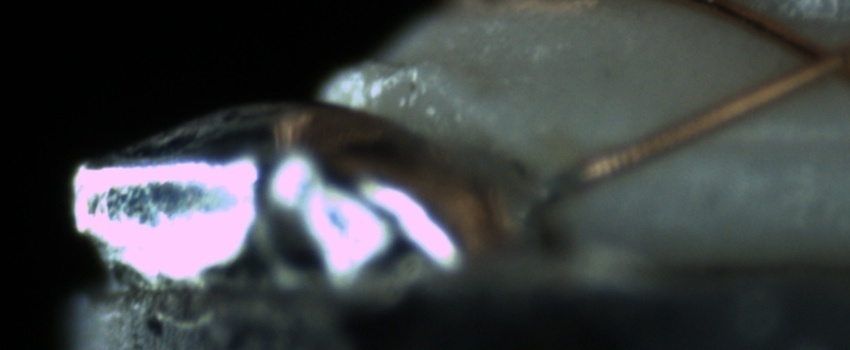CL: (771, 20, 849, 94)
DL: (682, 108, 848, 172)
TS: (532, 164, 575, 205)
